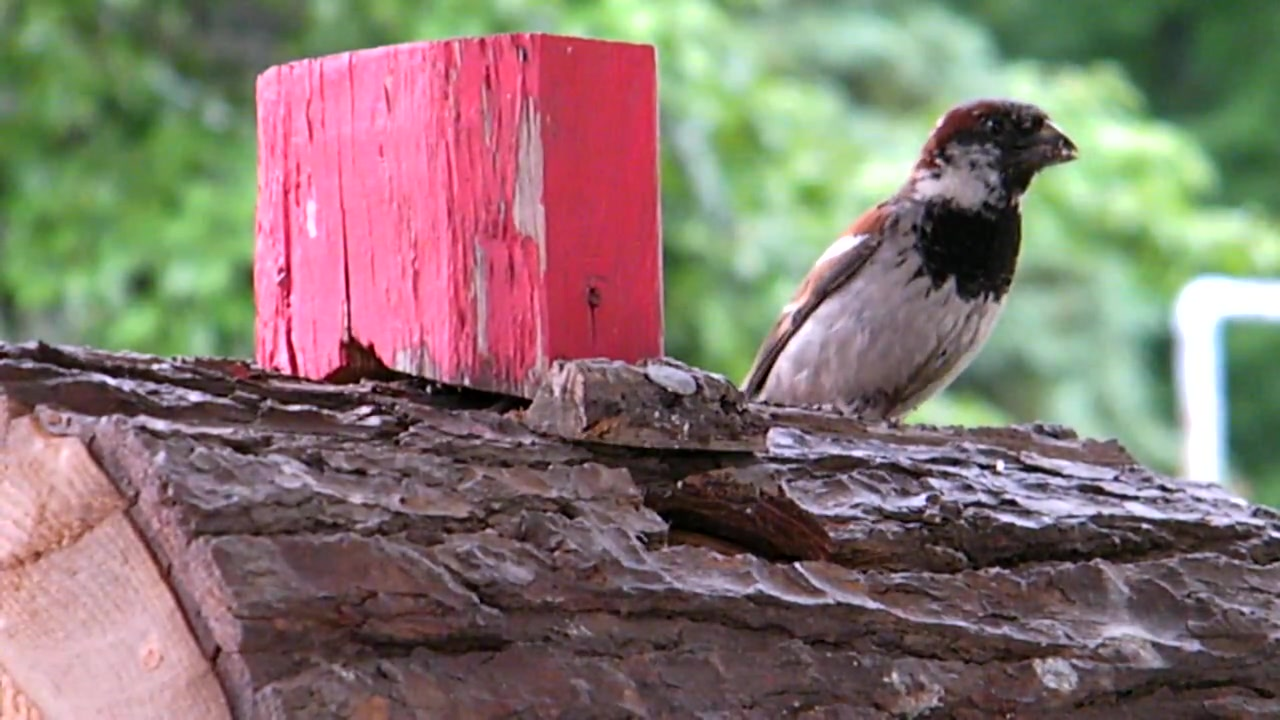bird: (738, 99, 1083, 430)
